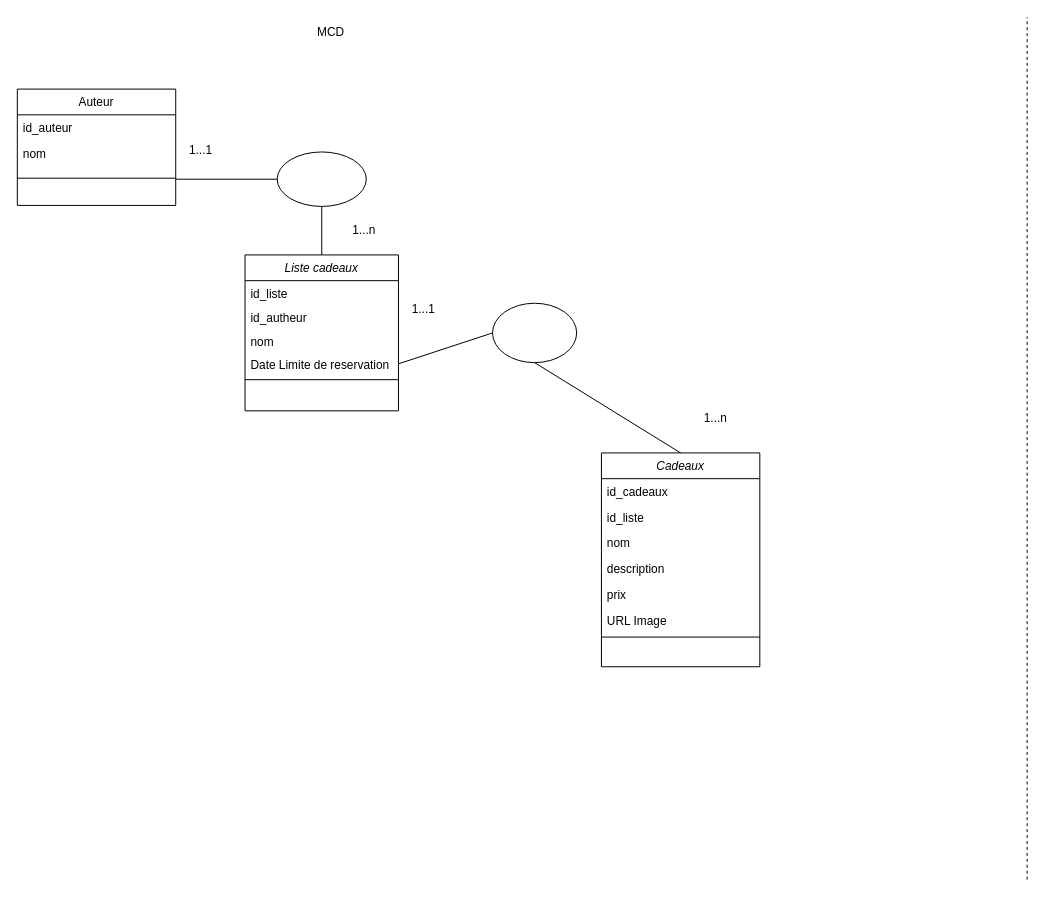
This 1045x898 diagram has some shape labels left out. The shapes that lost their labels are listed below. From the top down, each one's centre as x and y in pixels, then its label:
At point 321,178: "Créer".
At point 534,332: "Contenir".
